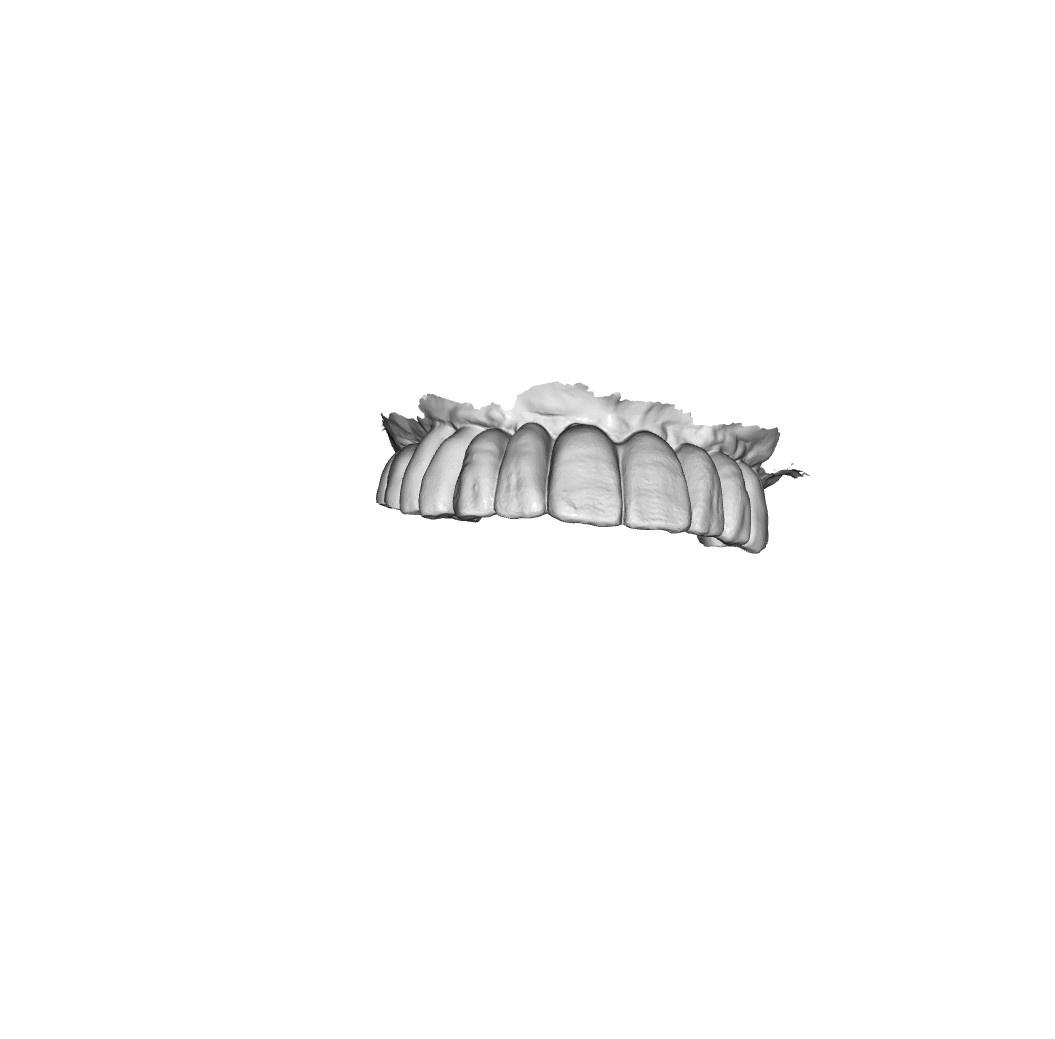canine: (451, 427, 507, 523), (718, 455, 752, 554)
incisor: (545, 421, 623, 531), (617, 427, 690, 536), (493, 420, 559, 522), (674, 443, 725, 540)
